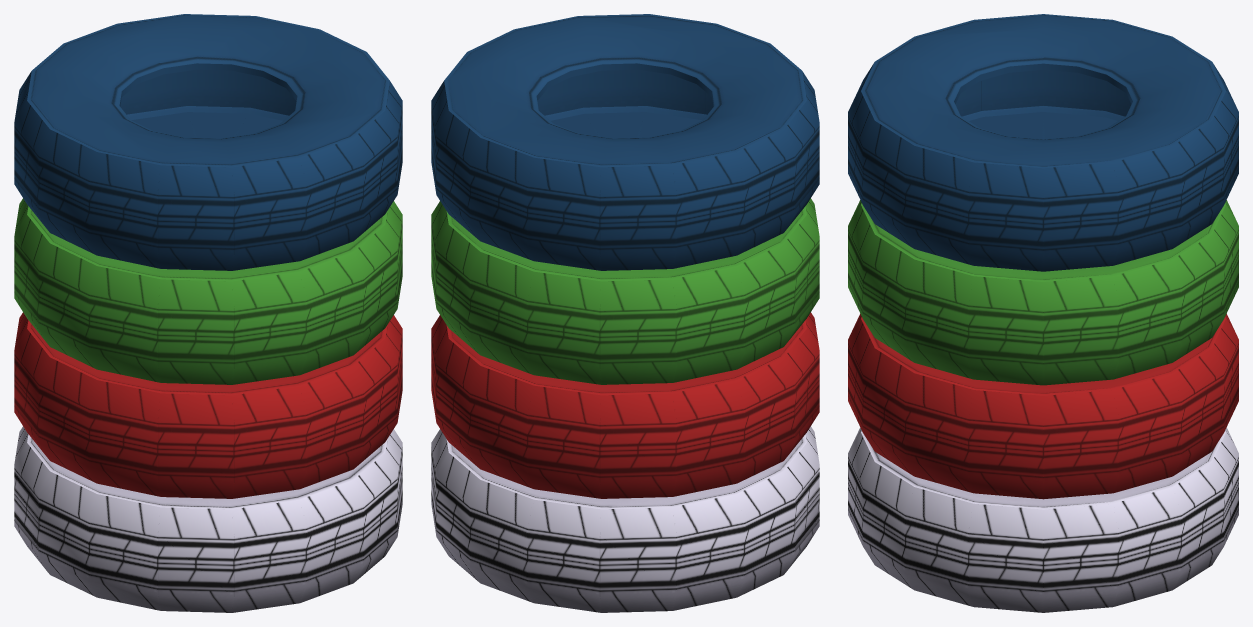
Rendered from active.Tyres.glb.
3 views of the same model, side by side, from view 1: azimuth 30°, elevation 25°; view 2: azimuth 150°, elevation 25°; view 3: azimuth 270°, elevation 25° (orthographic).
Visible parts, largest first — view 1: active.Tyres; view 2: active.Tyres; view 3: active.Tyres.
Boxes of the visible parts, left/top/right/bottom form: active.Tyres: left=14, top=14, right=402, bottom=612; active.Tyres: left=431, top=14, right=819, bottom=612; active.Tyres: left=848, top=14, right=1238, bottom=612.
Bounding box in the file's own units: 1.14 × 1.47 × 1.14.
4 materials, 4 textured.
